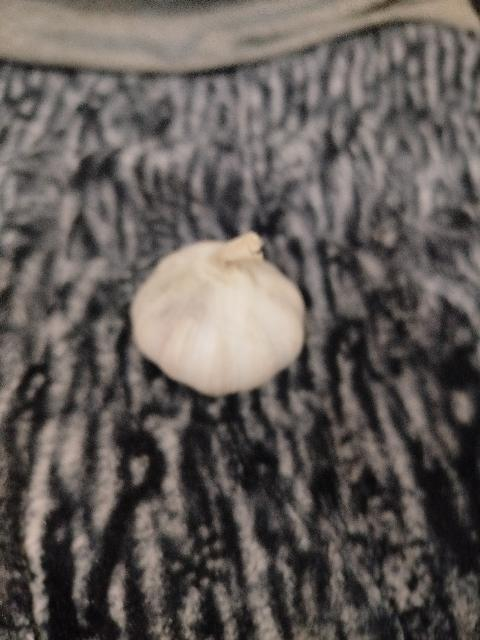garlic: (130, 230, 306, 398)
